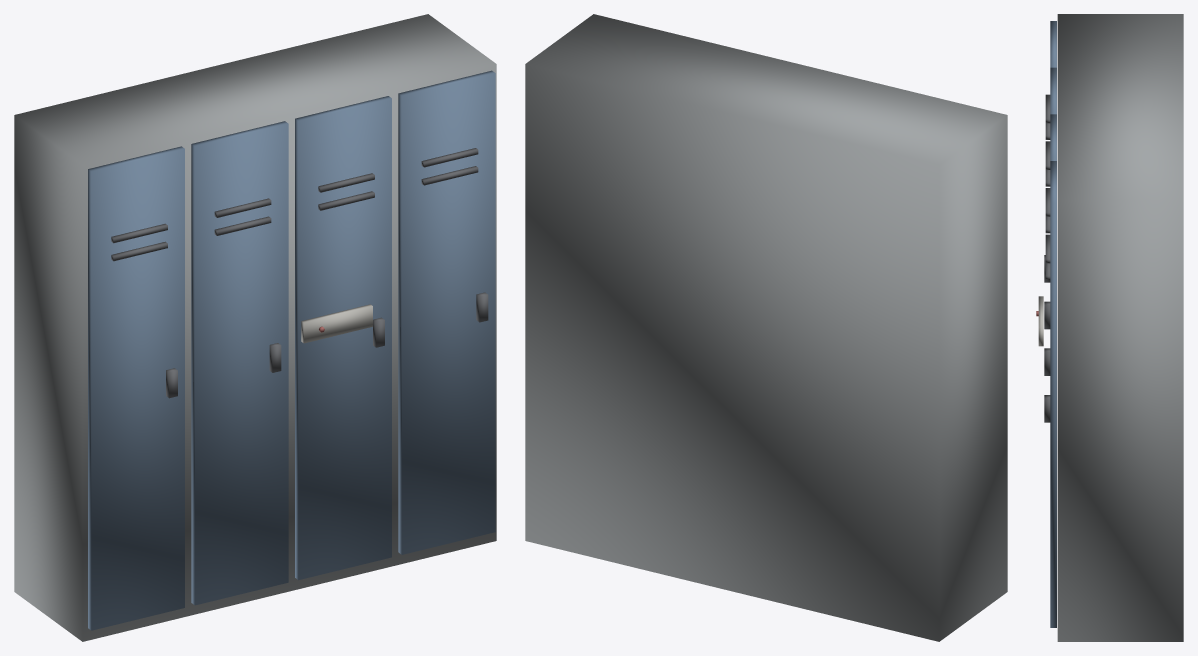
File: property_locker_bank.glb
3 views of the same model, side by side, from view 1: azimuth 30°, elevation 25°; view 2: azimuth 150°, elevation 25°; view 3: azimuth 270°, elevation 25° (orthographic). The views are drawn at different scales.
Visible parts, largest first — view 1: world; view 2: world; view 3: world.
Part boxes in pixels (<box>): world: <box>14,14,496,641</box>; world: <box>525,14,1007,641</box>; world: <box>1036,14,1183,641</box>.
Bounding box in the file's own units: 1.68 × 1.85 × 0.561.
